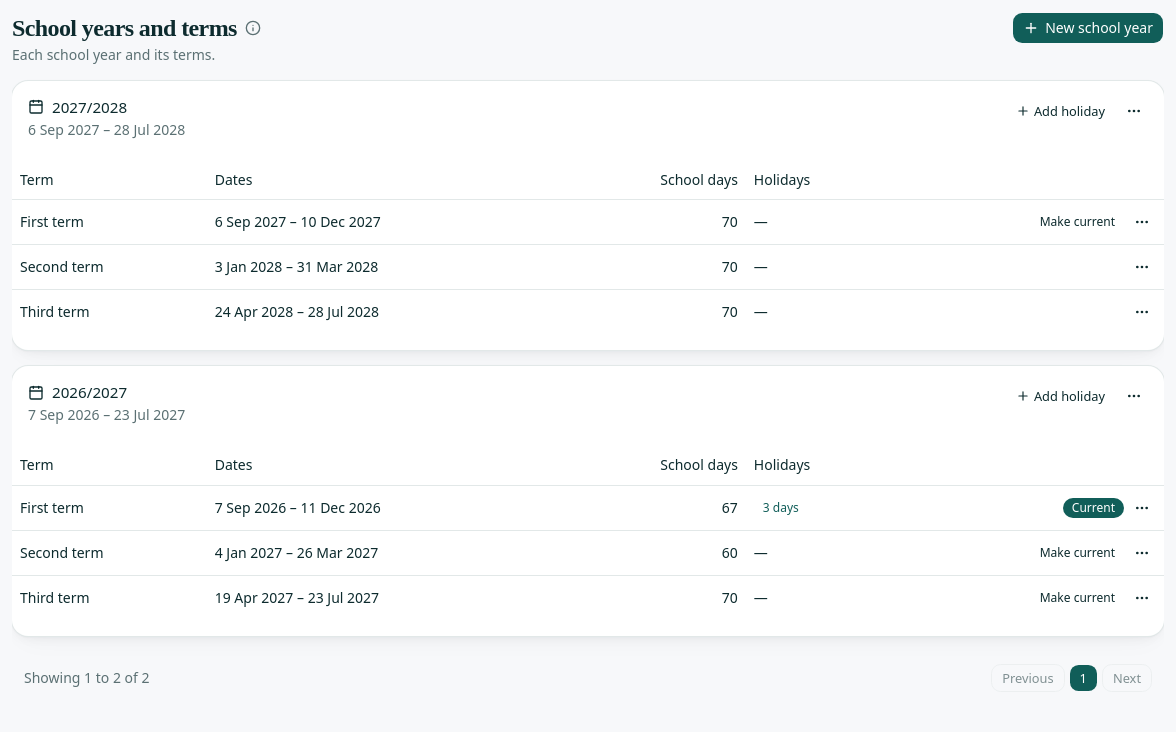
Test: CalendarPage › Delete school year › is disabled with the reason in a tooltip for a started year
This screenshot has width=1176, height=732.
Step 1. Click the button named "More for 2026/2027" → (1134,396), box top-left (1120, 382), bottom-right (1148, 410)
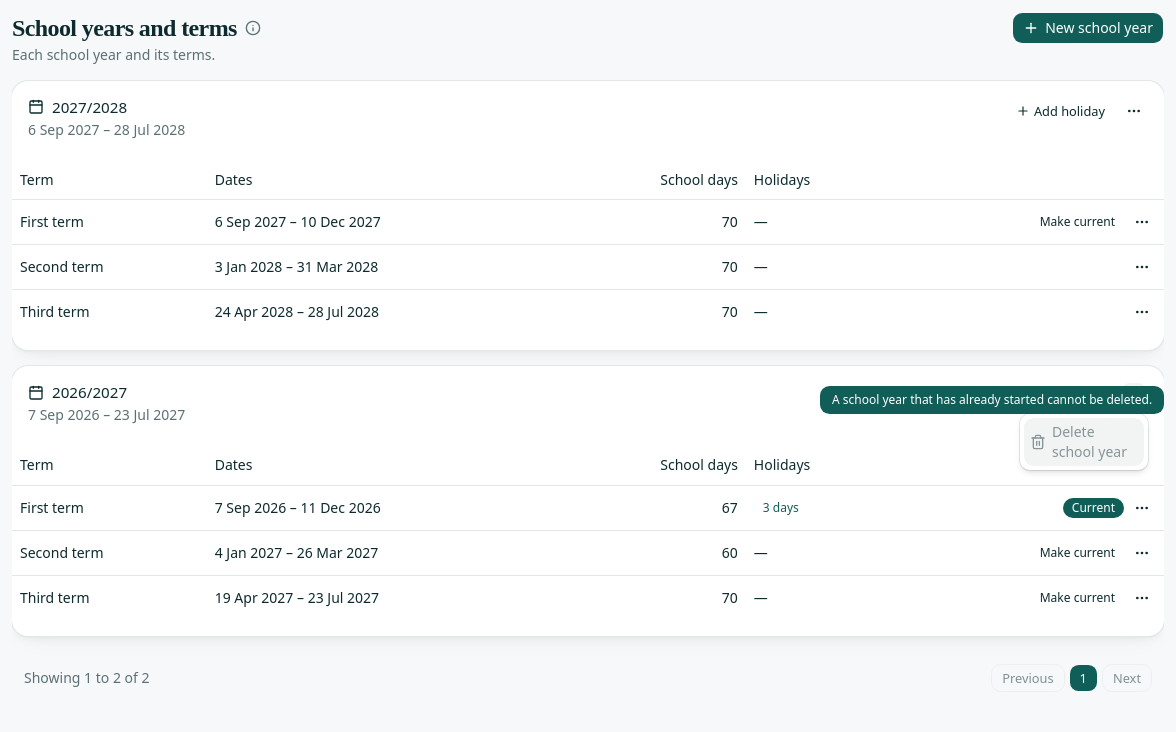
Result: the tooltip "A school year that has already started cannot be deleted." is shown at top-left (820, 386), bottom-right (1164, 414)
